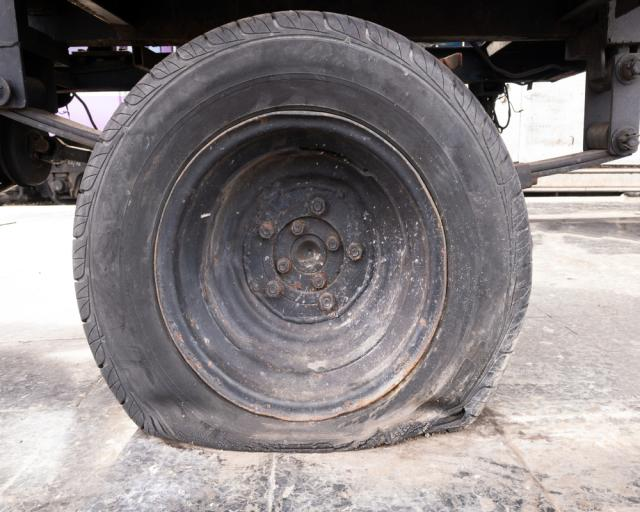tire flat: (69, 6, 532, 452)
